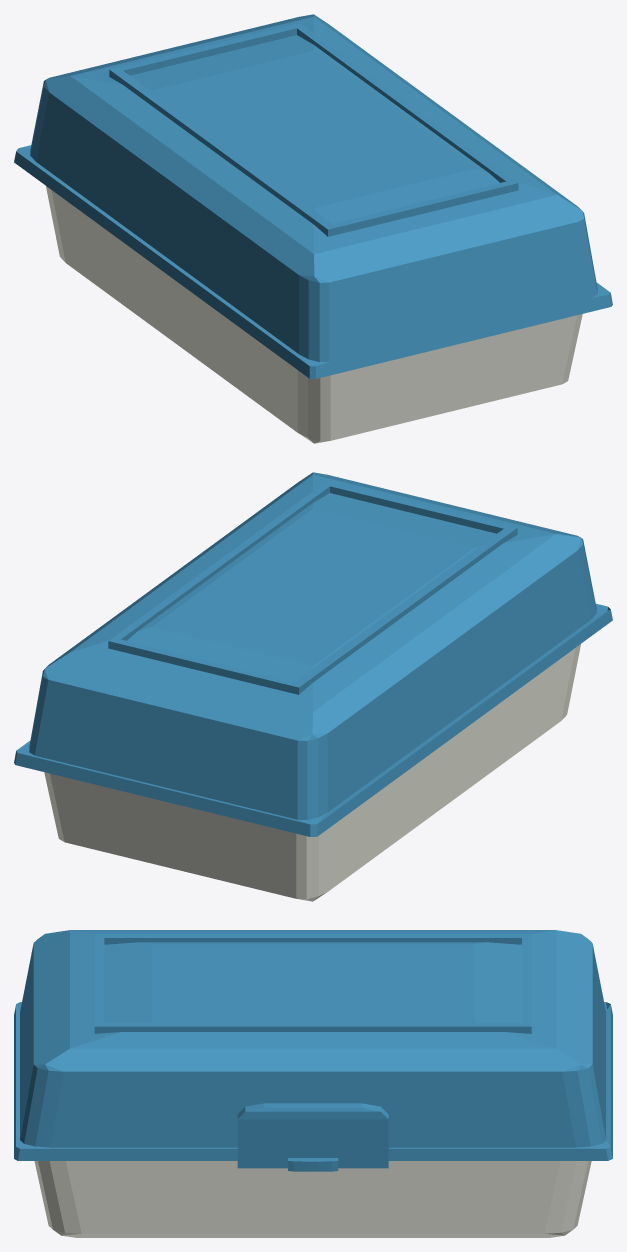
Rendered from PencilCase.fbx.
The picture shows the model from 3 angles, top to bottom: view 1: azimuth 30°, elevation 25°; view 2: azimuth 150°, elevation 25°; view 3: azimuth 270°, elevation 25°; orthographic projection.
Visible parts, largest first — view 1: TopHalf, BottomHalf; view 2: TopHalf, BottomHalf; view 3: TopHalf, BottomHalf.
Part boxes in pixels (<box>): TopHalf: <box>14,14,612,378</box>; BottomHalf: <box>46,186,582,443</box>; TopHalf: <box>14,472,612,836</box>; BottomHalf: <box>44,644,580,901</box>; TopHalf: <box>14,930,612,1171</box>; BottomHalf: <box>34,1161,591,1237</box>.
Bounding box in the file's own units: 657 × 410 × 1090.
2 materials, 2 textured.
